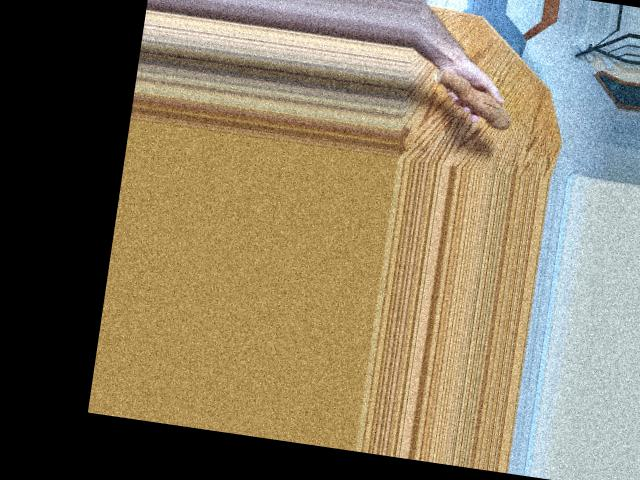sweet_potato: (426, 63, 521, 132)
